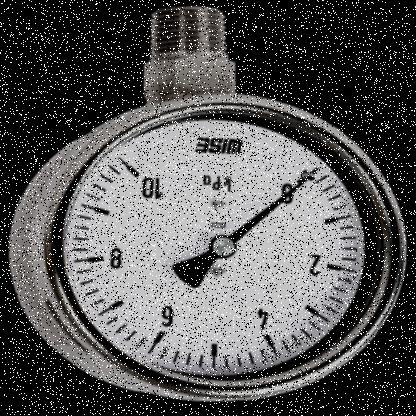needle: (228, 174, 314, 242)
